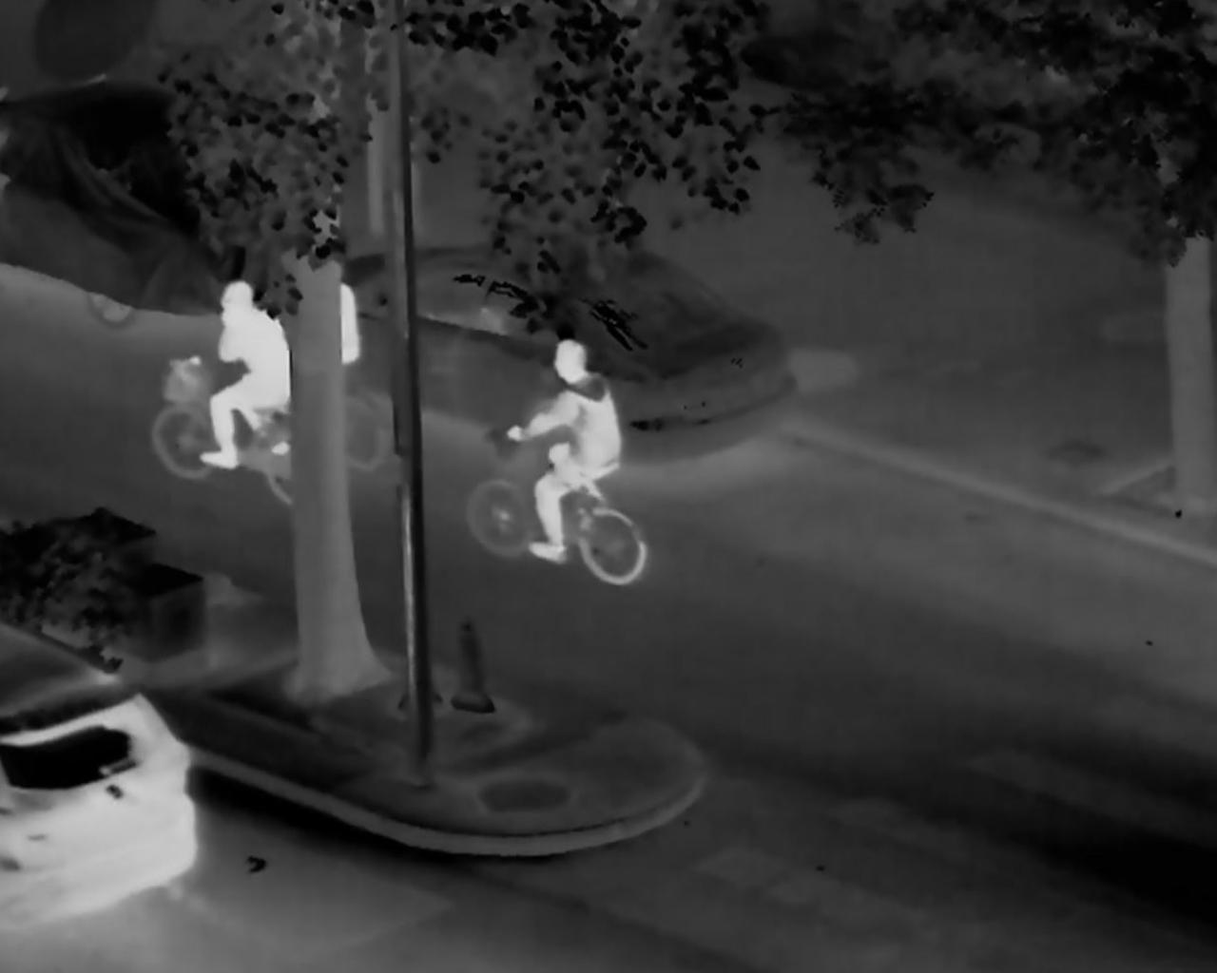person: (505, 341, 621, 567), (201, 281, 291, 468), (280, 256, 359, 411)
